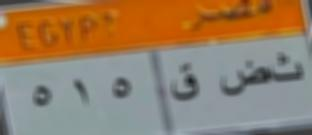1: (70, 71, 93, 113)
5: (108, 69, 135, 103), (29, 78, 54, 112)
daad: (215, 55, 269, 100)
qaaf: (166, 59, 199, 109)
thaa: (271, 50, 306, 85)
